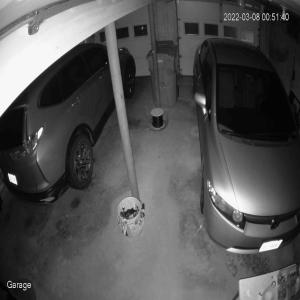garbage bin: (145, 40, 180, 108)
honda civic: (192, 37, 300, 255)
honda crv: (0, 42, 137, 207)
tool bucket: (116, 196, 146, 239)
